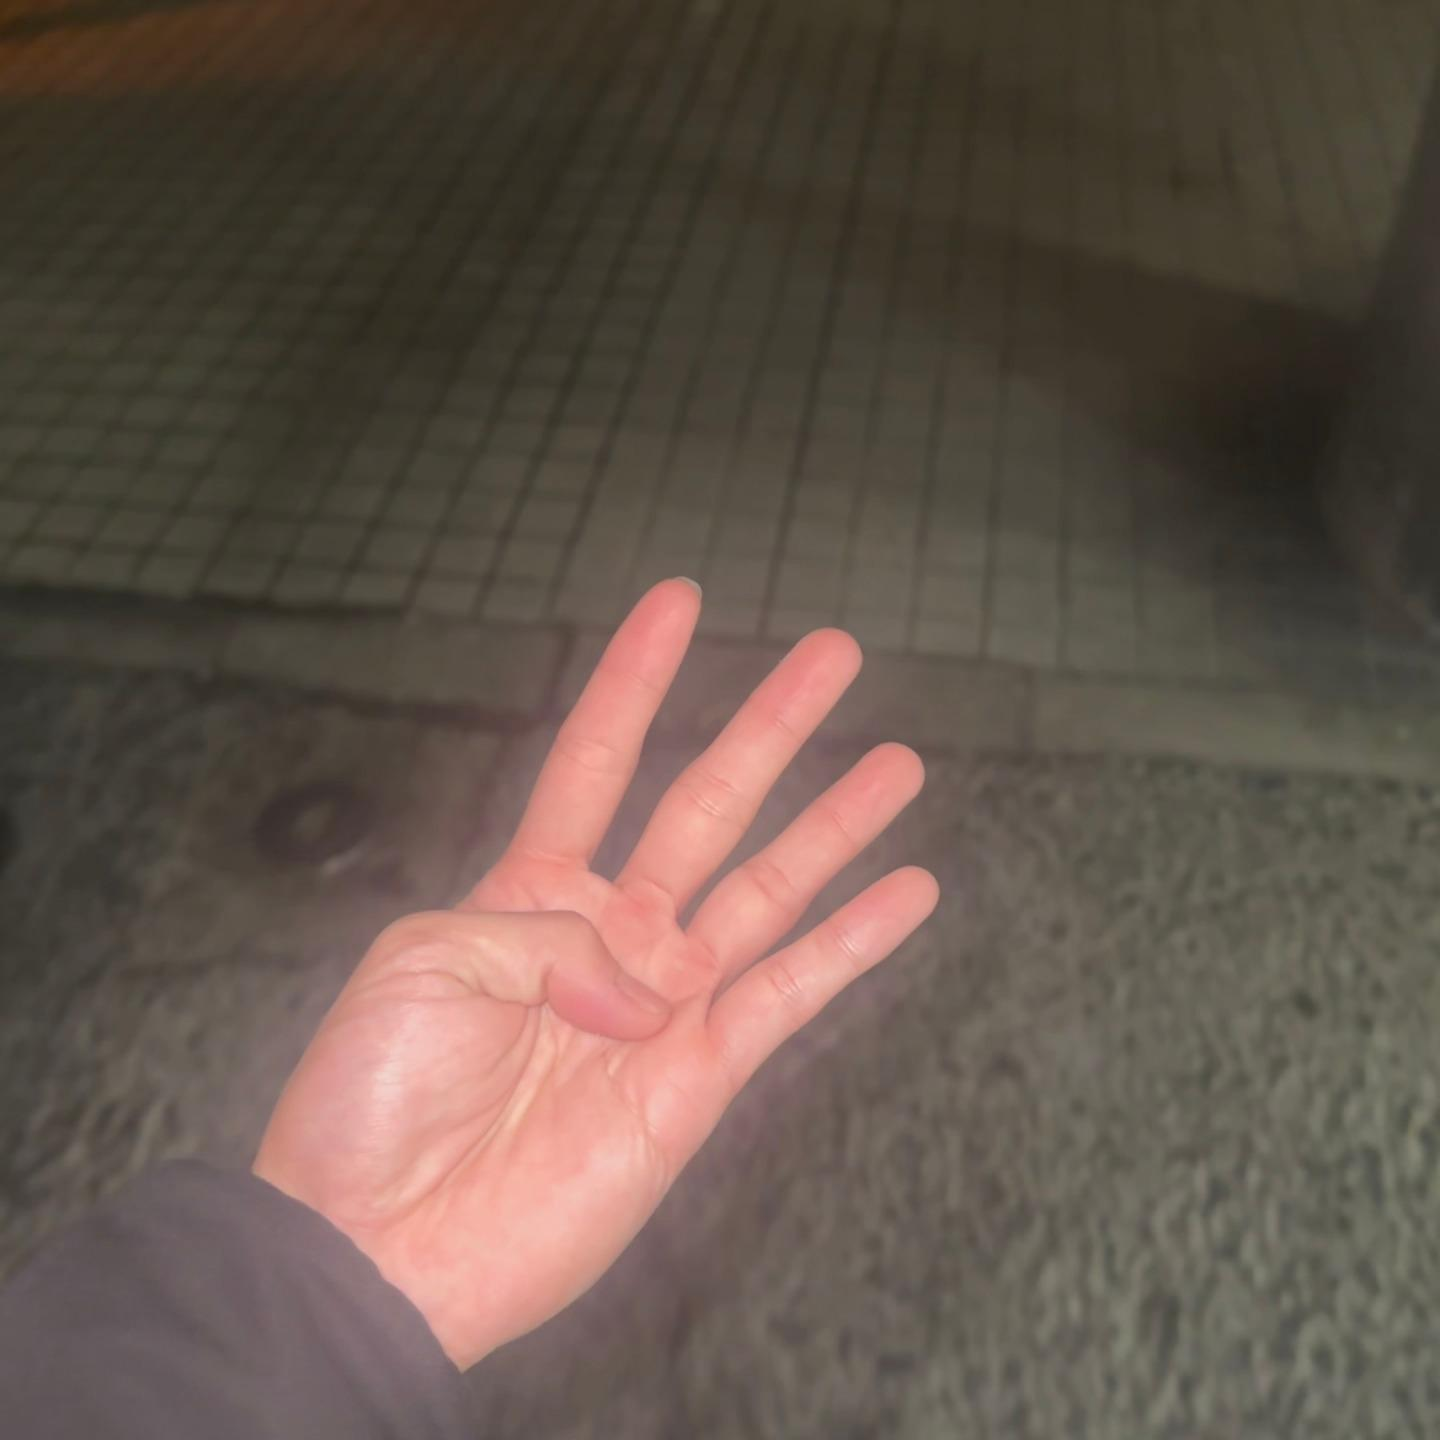without_gloves: (244, 467, 1131, 1288)
